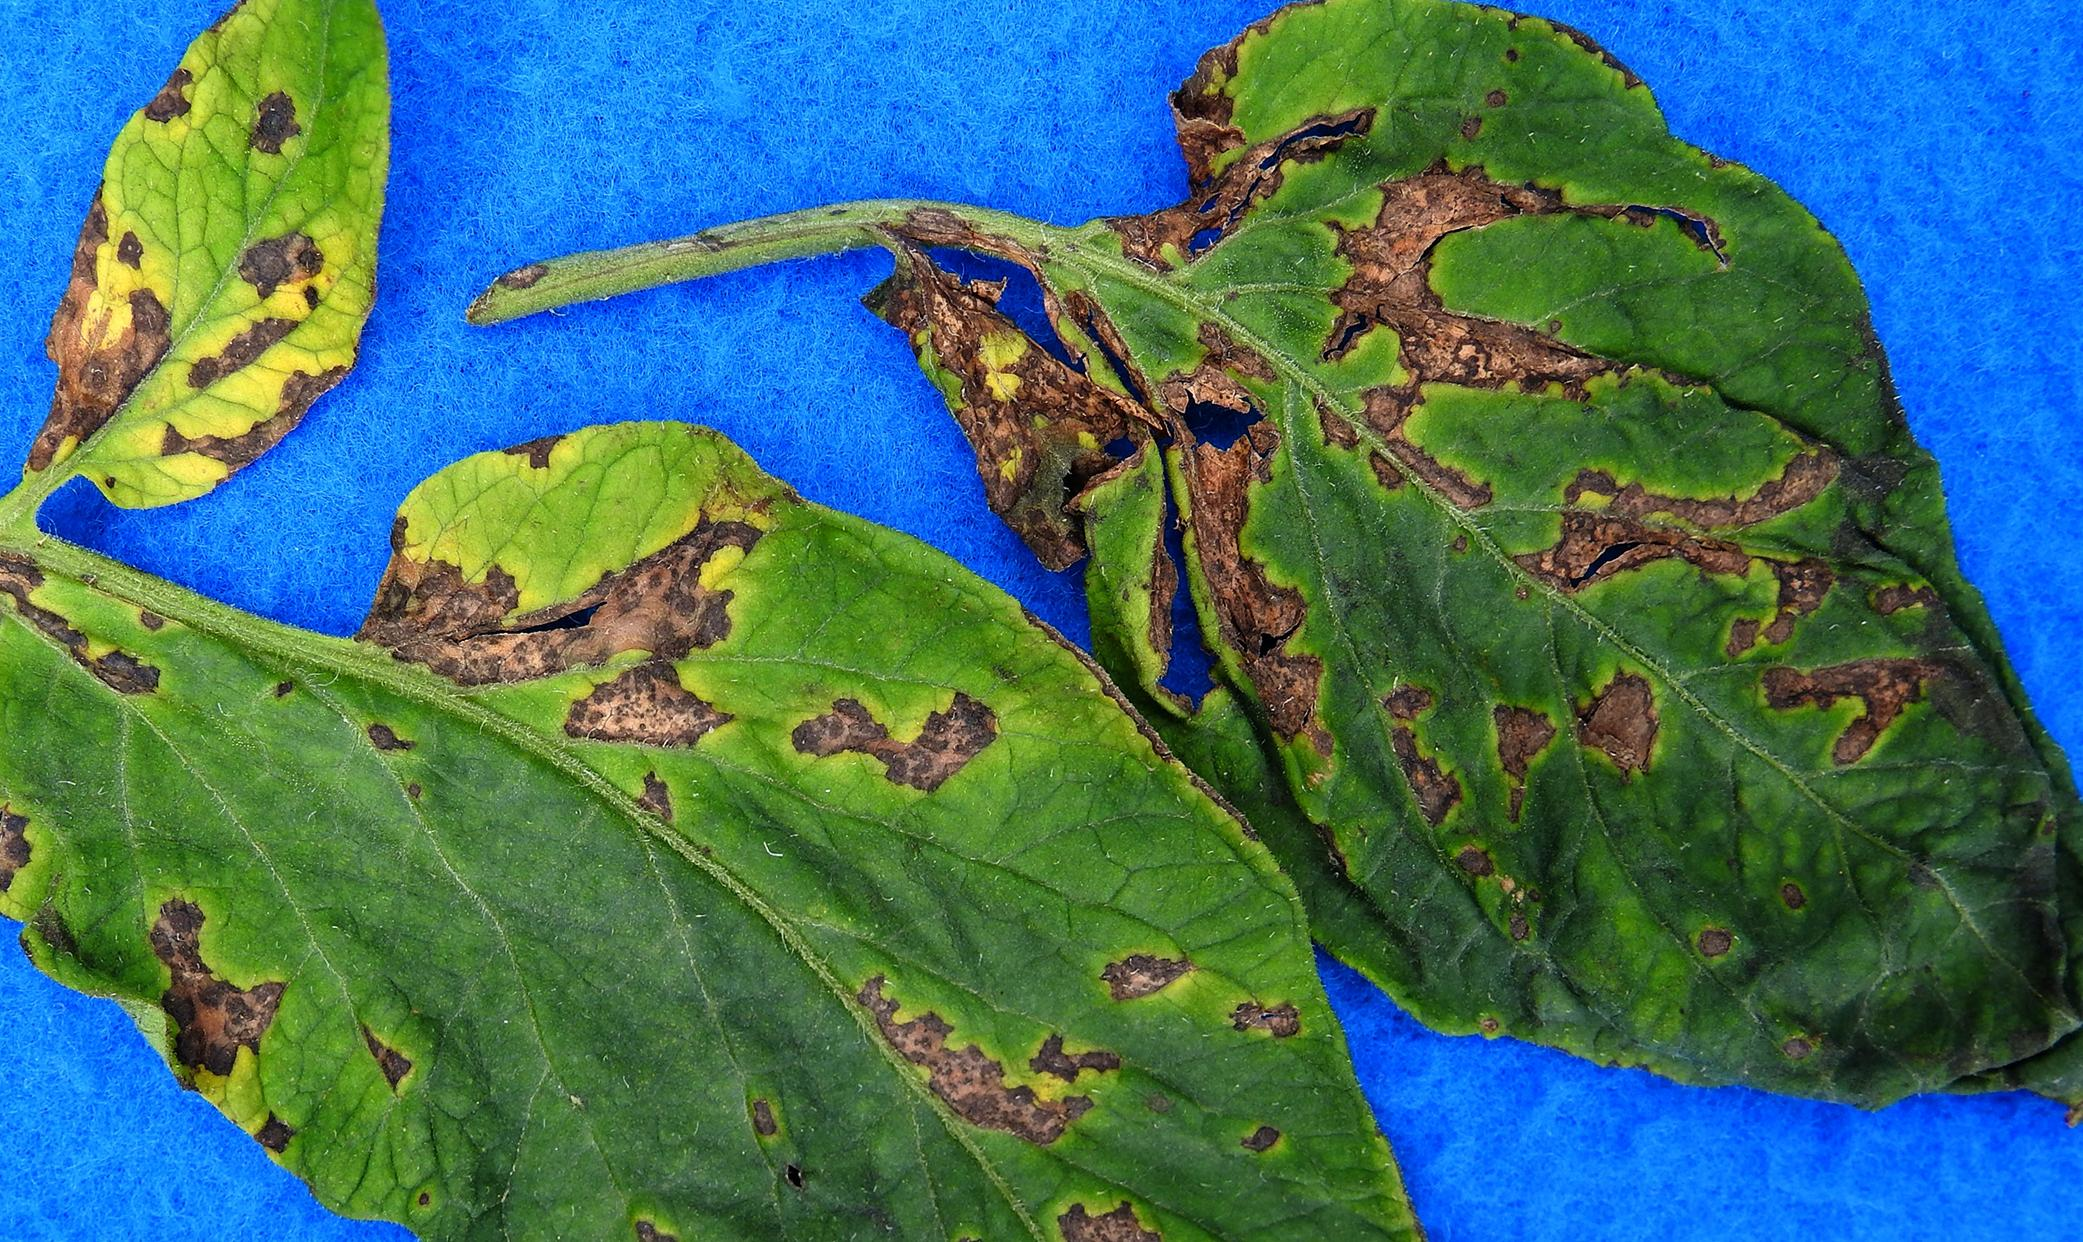Tomato leaf bacterial spot: (0, 354, 1565, 1242), (933, 0, 2083, 1138), (0, 0, 436, 513)
